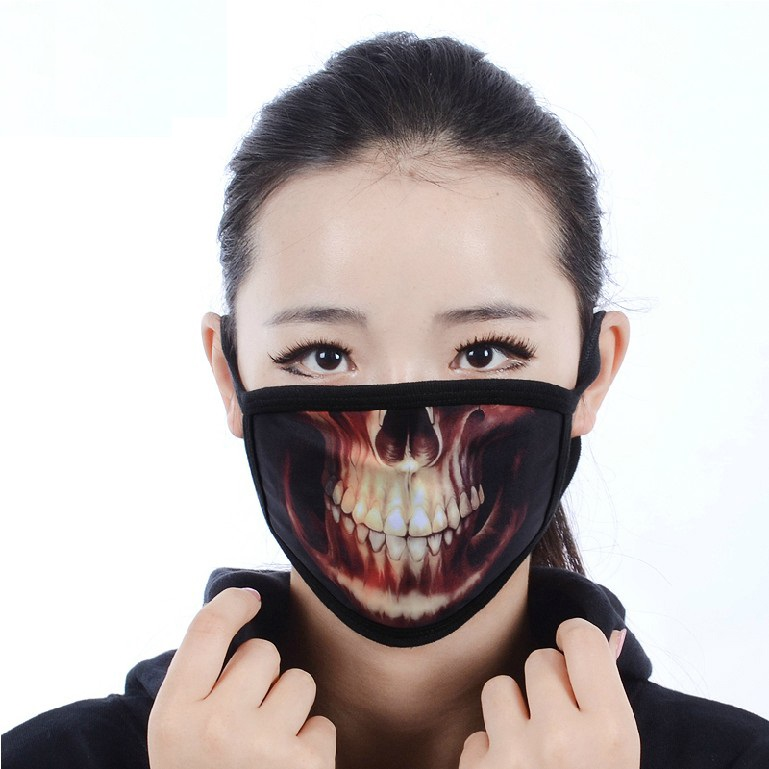face_mask: (238, 147, 573, 635)
